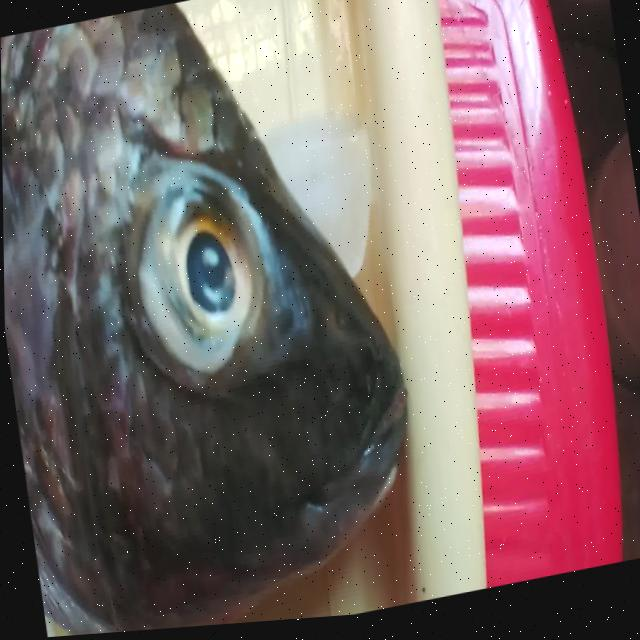Fresh: (119, 150, 296, 414)
